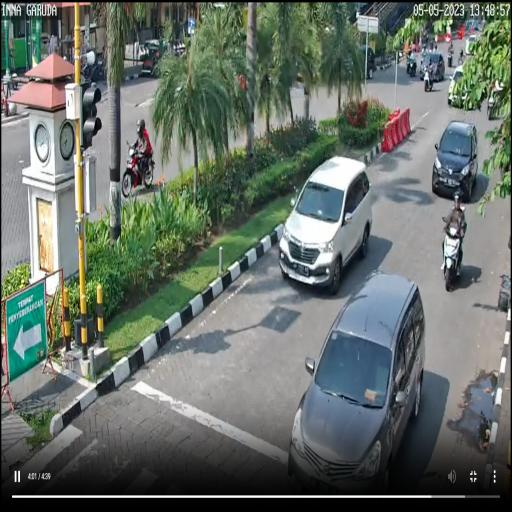mobil: (282, 269, 425, 496), (276, 150, 378, 298), (428, 121, 480, 198)
motor: (441, 214, 468, 292)
